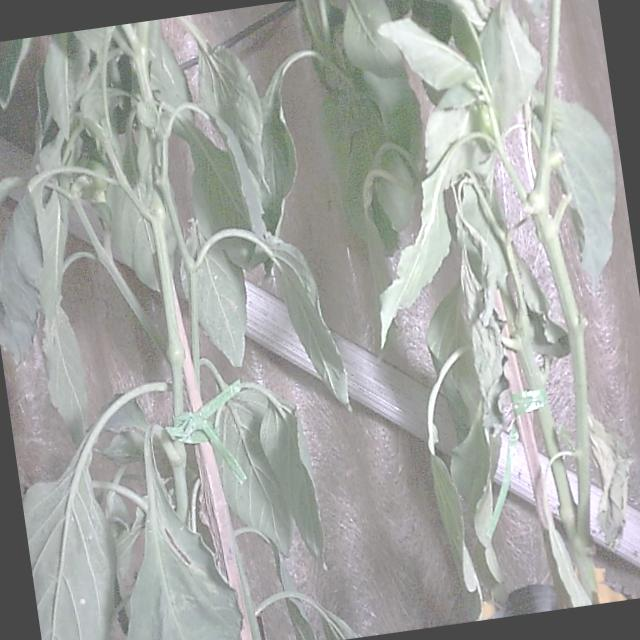Leaf: (128, 453, 241, 639), (23, 459, 114, 639), (267, 236, 349, 405), (378, 19, 476, 89)
